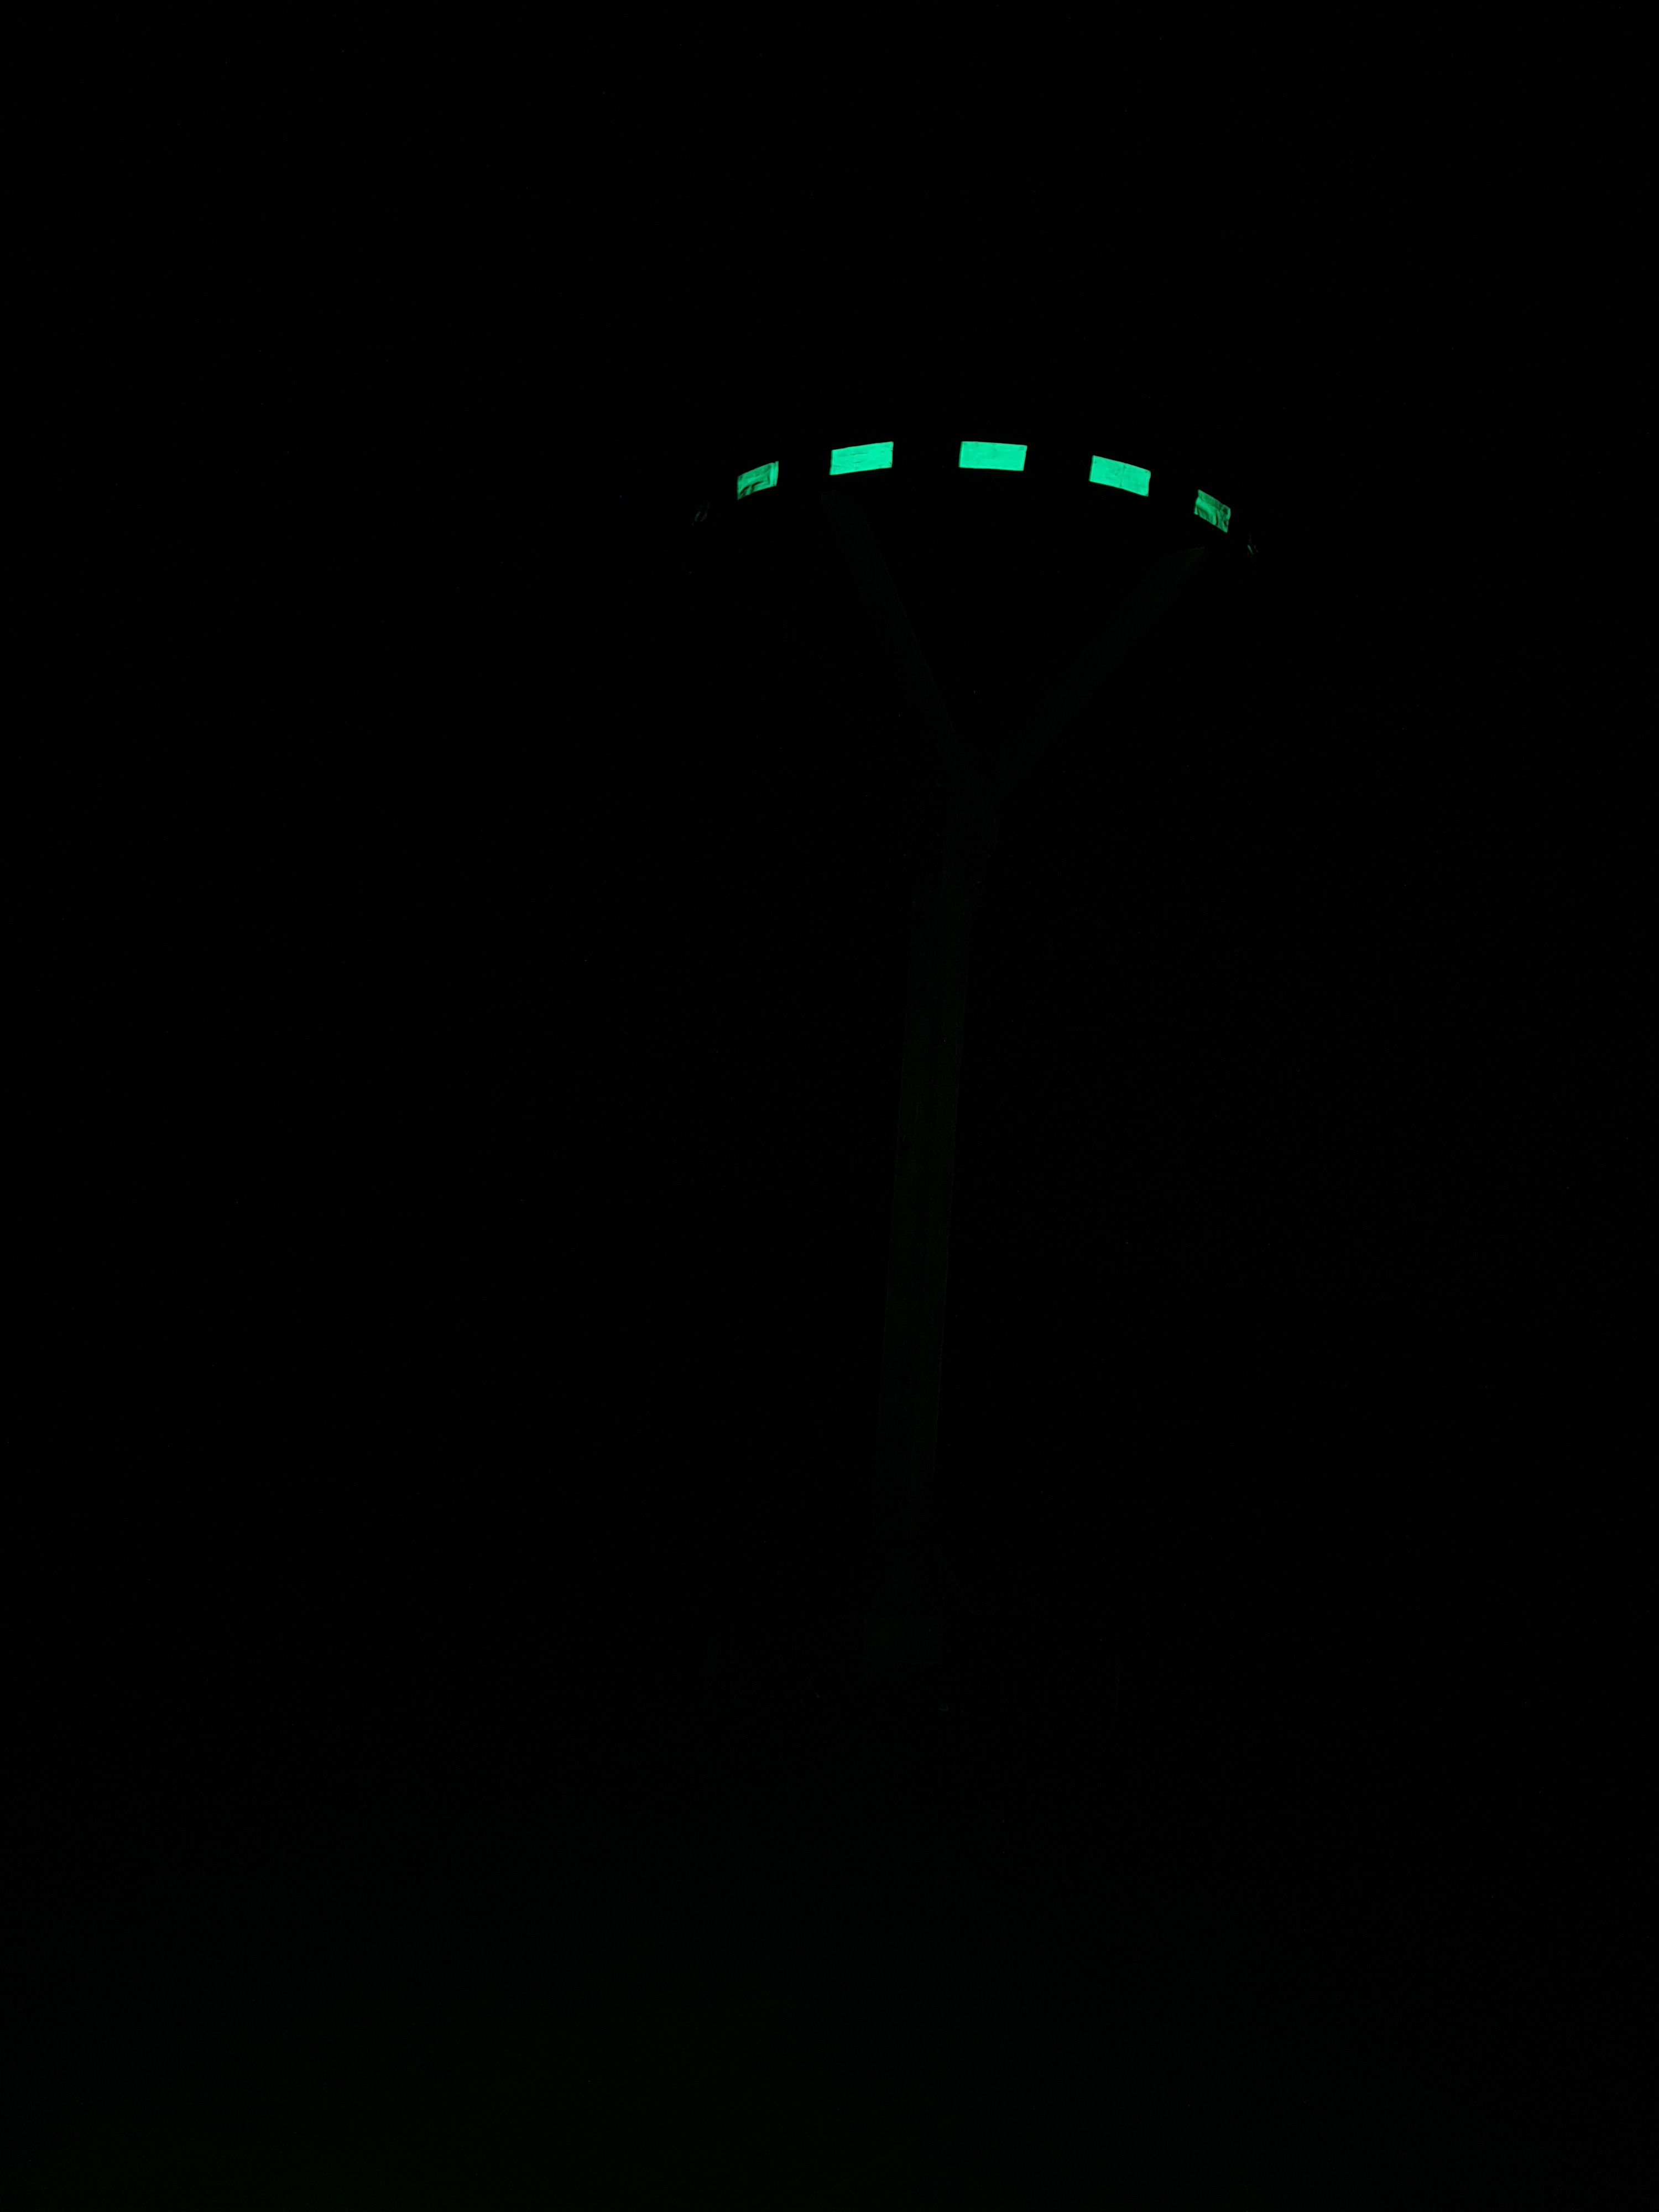hoop: (735, 435, 1232, 536)
